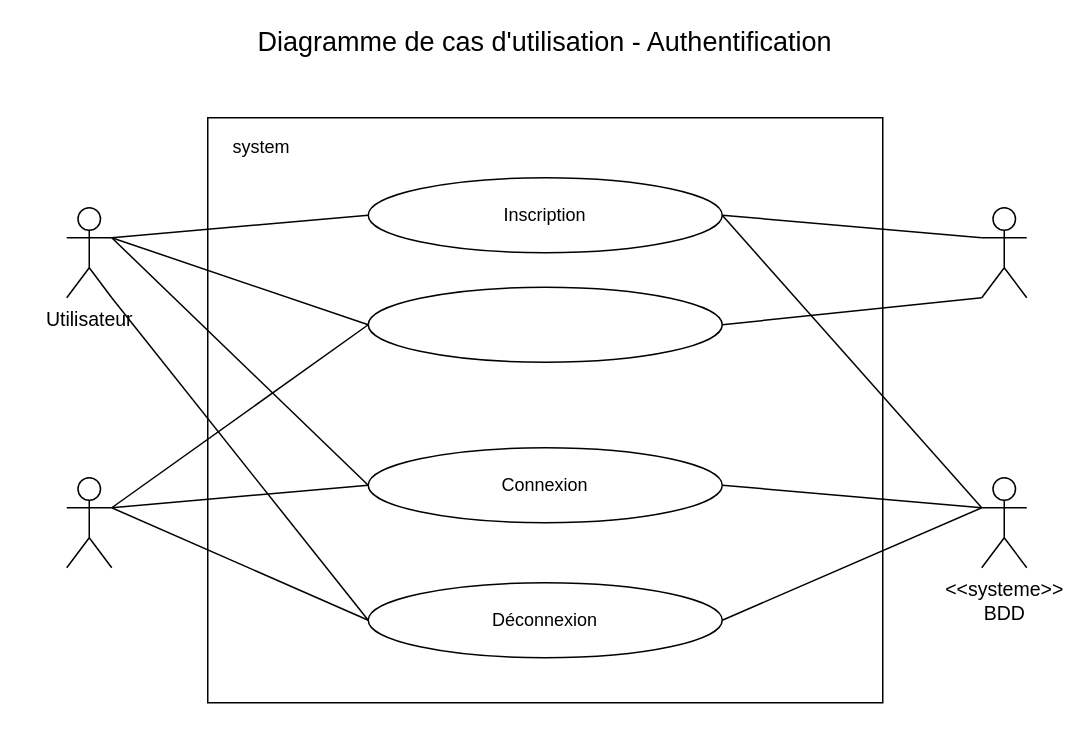
This 1089x729 diagram has some shape labels left out. Here are the shapes that lost their labels. From the top down, the centre of each, then its label:
the point at 1003,252: <<systeme>> controller
the point at 544,324: Envoi mail confirmation
the point at 88,522: Administrateur
